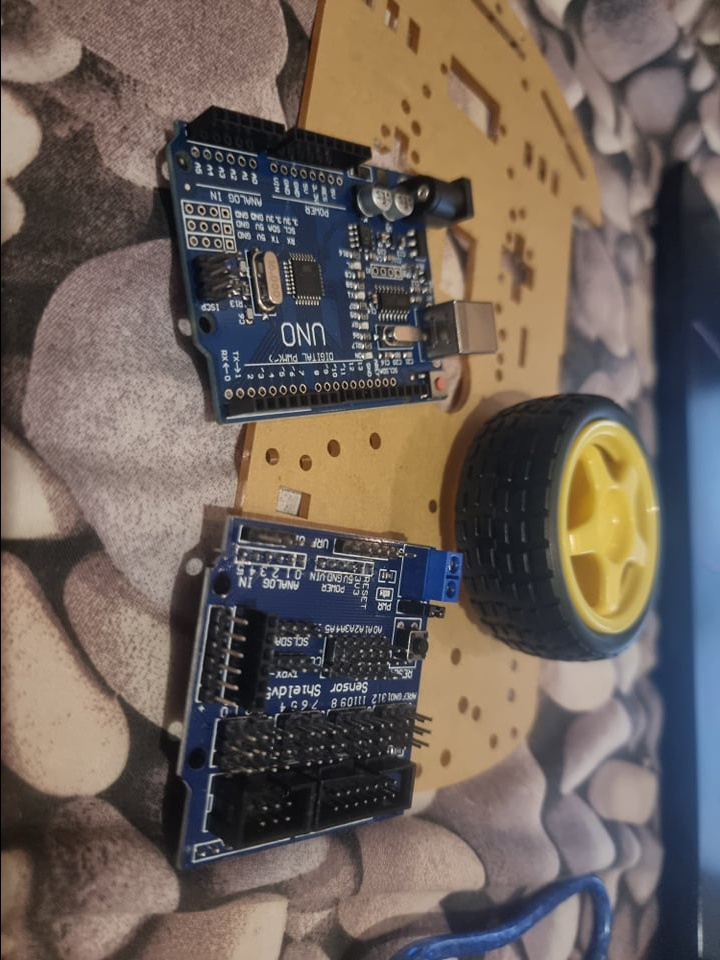5V EXPANSION: (174, 515, 465, 868)
UNO R3: (164, 103, 496, 424)
